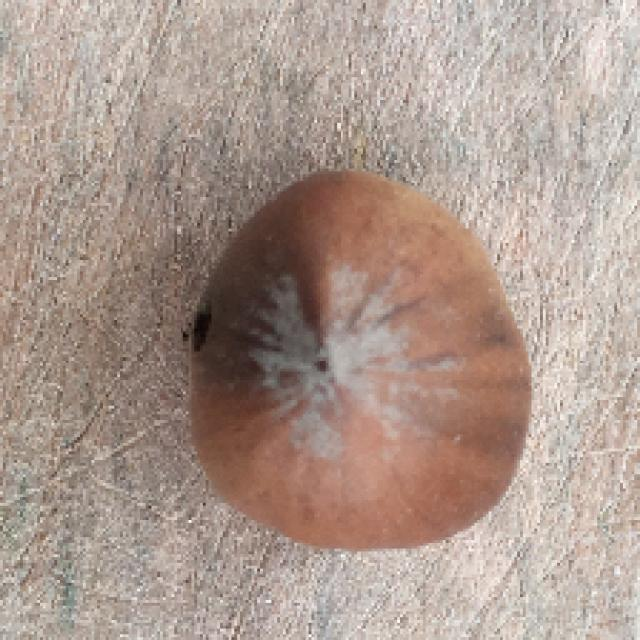DamagedHazelnut: (189, 172, 539, 544)
